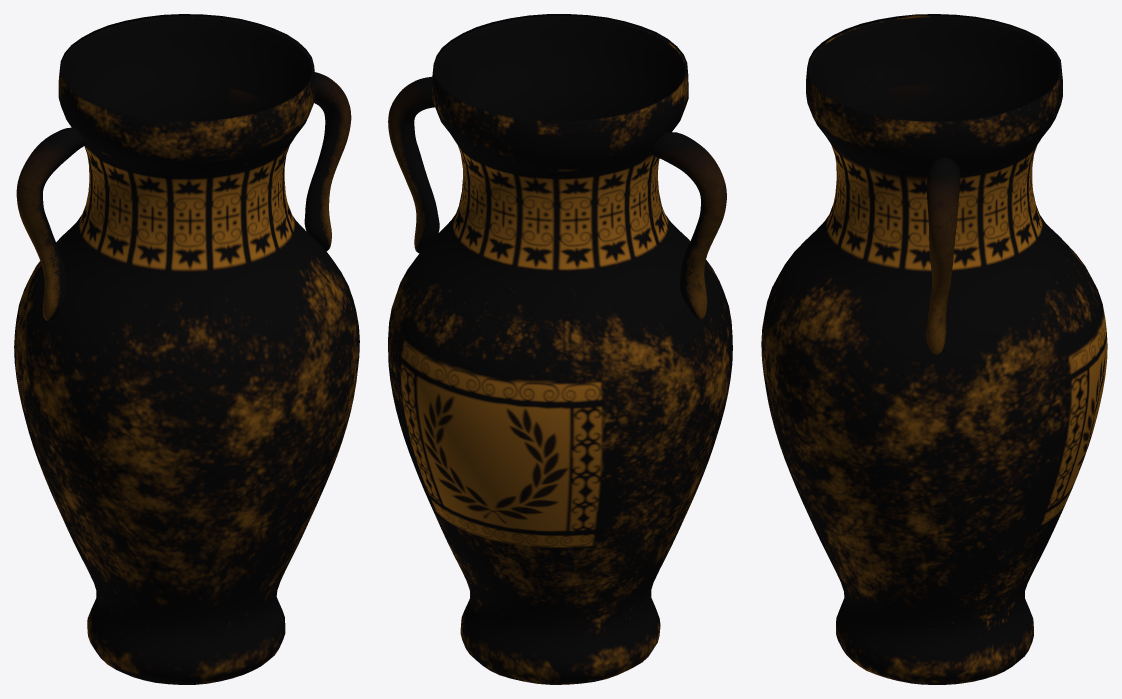
File: old_greek_vase.glb
3 views of the same model, side by side, from view 1: azimuth 30°, elevation 25°; view 2: azimuth 150°, elevation 25°; view 3: azimuth 270°, elevation 25° (orthographic).
Parts seen in each view (by area): view 1: MorphDiff_PM3D_PolySphere_2_0, MorphDiff_PM3D_PolySphere_2.001_1; view 2: MorphDiff_PM3D_PolySphere_2_0, MorphDiff_PM3D_PolySphere_2.001_1; view 3: MorphDiff_PM3D_PolySphere_2_0, MorphDiff_PM3D_PolySphere_2.001_1.
Boxes of the visible parts, x1,y1,x2,y2 form: MorphDiff_PM3D_PolySphere_2_0: (14, 14, 359, 684); MorphDiff_PM3D_PolySphere_2.001_1: (16, 72, 351, 320); MorphDiff_PM3D_PolySphere_2_0: (388, 14, 732, 684); MorphDiff_PM3D_PolySphere_2.001_1: (388, 76, 726, 319); MorphDiff_PM3D_PolySphere_2_0: (761, 14, 1107, 684); MorphDiff_PM3D_PolySphere_2.001_1: (926, 157, 960, 354).
Bounding box in the file's own units: 4.53 × 7.62 × 4.07.
Materials: 2 (2 with a texture image).
